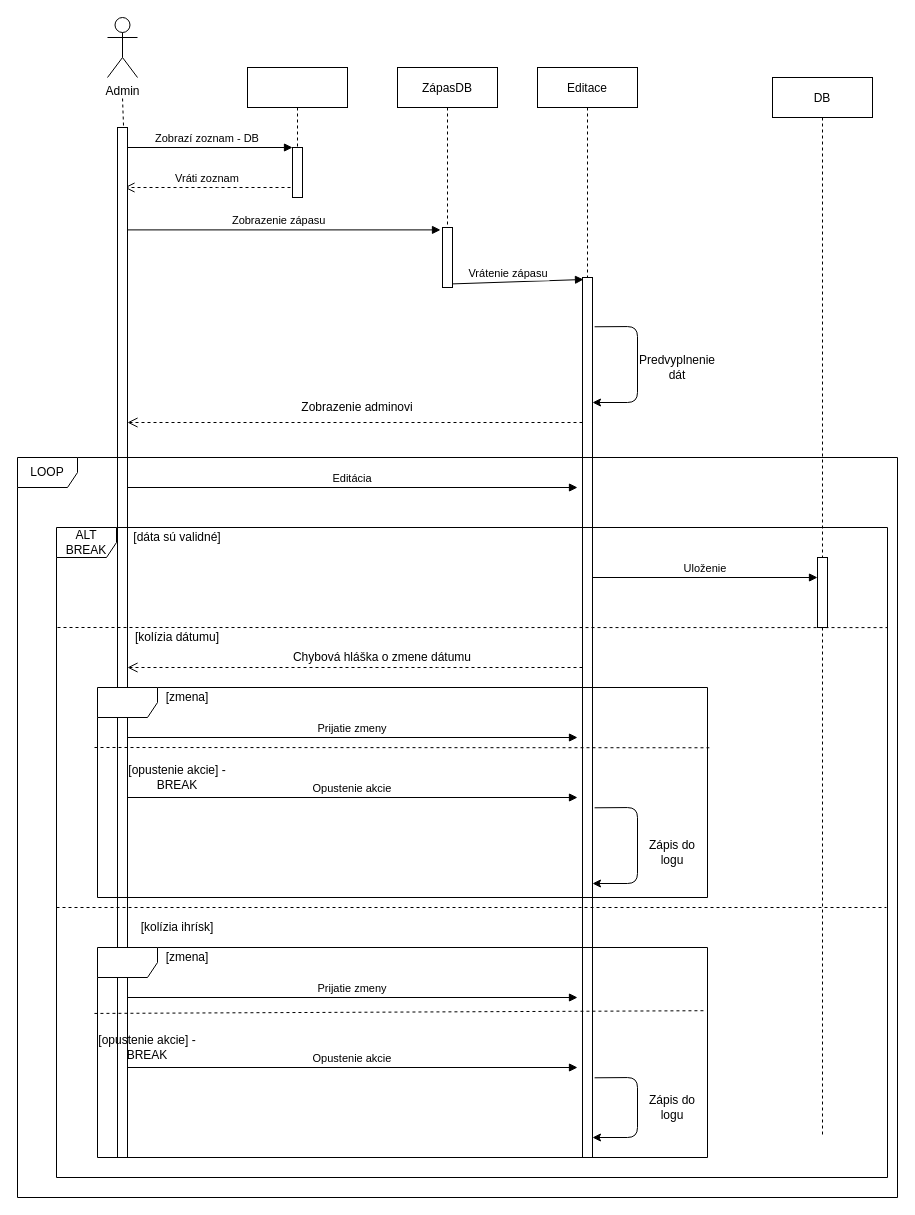
Image size: 915x1215. Some labels were removed from this diagram. Here are the shapes that lost their labels. From the top down, the box of each, then its label:
(246, 66, 348, 198): ZápasyDB
(96, 686, 708, 898): ALT- 1.1
(96, 946, 708, 1158): ALT- 1.2
